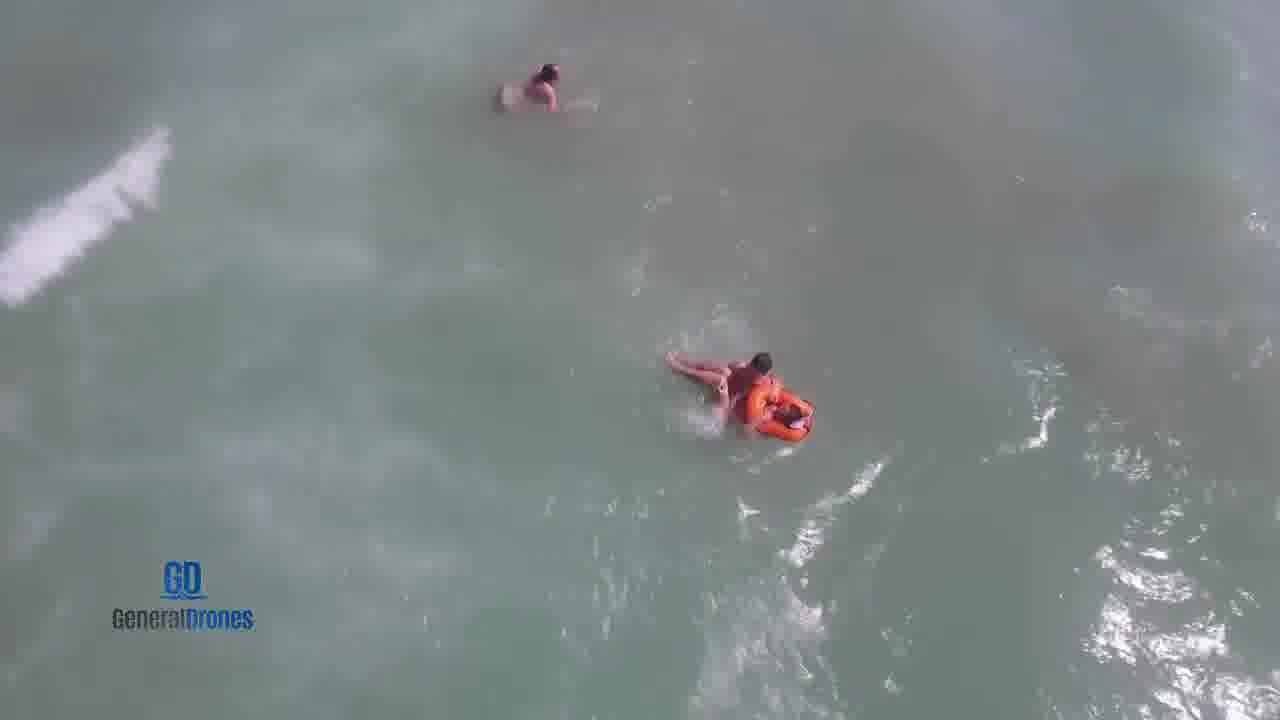human: (657, 341, 814, 437), (722, 338, 802, 389), (519, 55, 582, 113)
